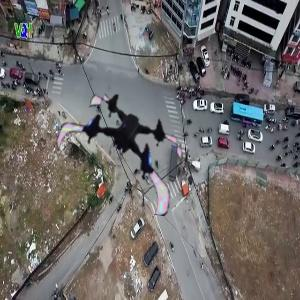drone: (55, 79, 188, 212)
